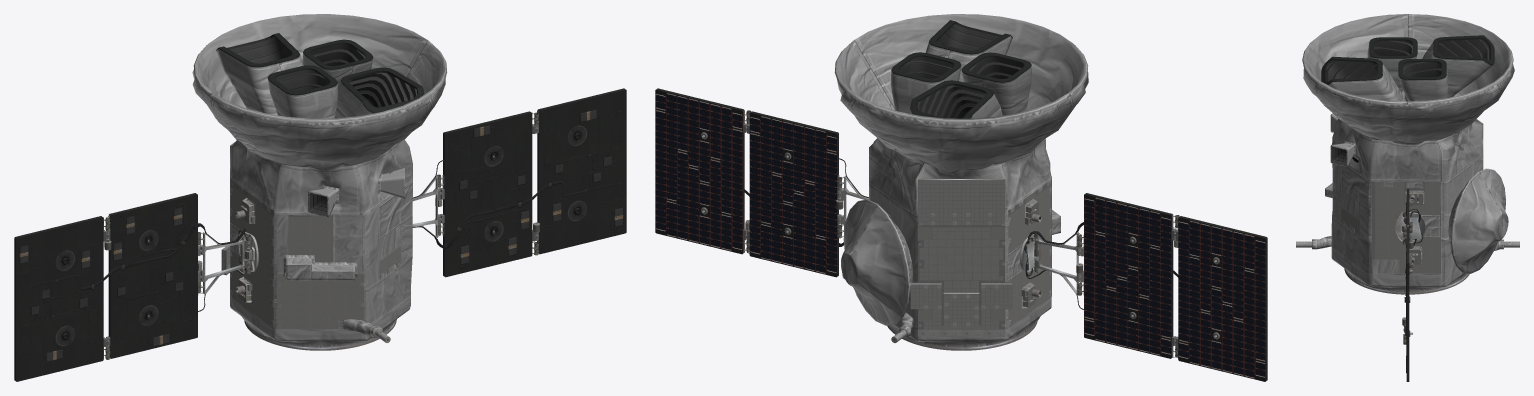
File: TESS.obj
3 renders of one model, left to right at view 1: azimuth 30°, elevation 25°; view 2: azimuth 150°, elevation 25°; view 3: azimuth 270°, elevation 25°, orthographic. The views are drawn at different scales.
Bounding box in the file's own units: 36.9 × 14.6 × 14.07.
Materials: 3 (3 with a texture image).
